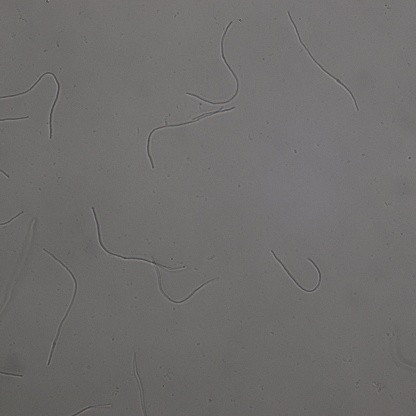Sensitive: (287, 12, 359, 110), (91, 206, 186, 270), (147, 107, 233, 168), (184, 22, 240, 106), (1, 70, 62, 138), (44, 248, 78, 366), (152, 258, 220, 304), (272, 251, 322, 294), (68, 403, 112, 416), (1, 210, 23, 229), (1, 113, 31, 126), (1, 367, 23, 381)
